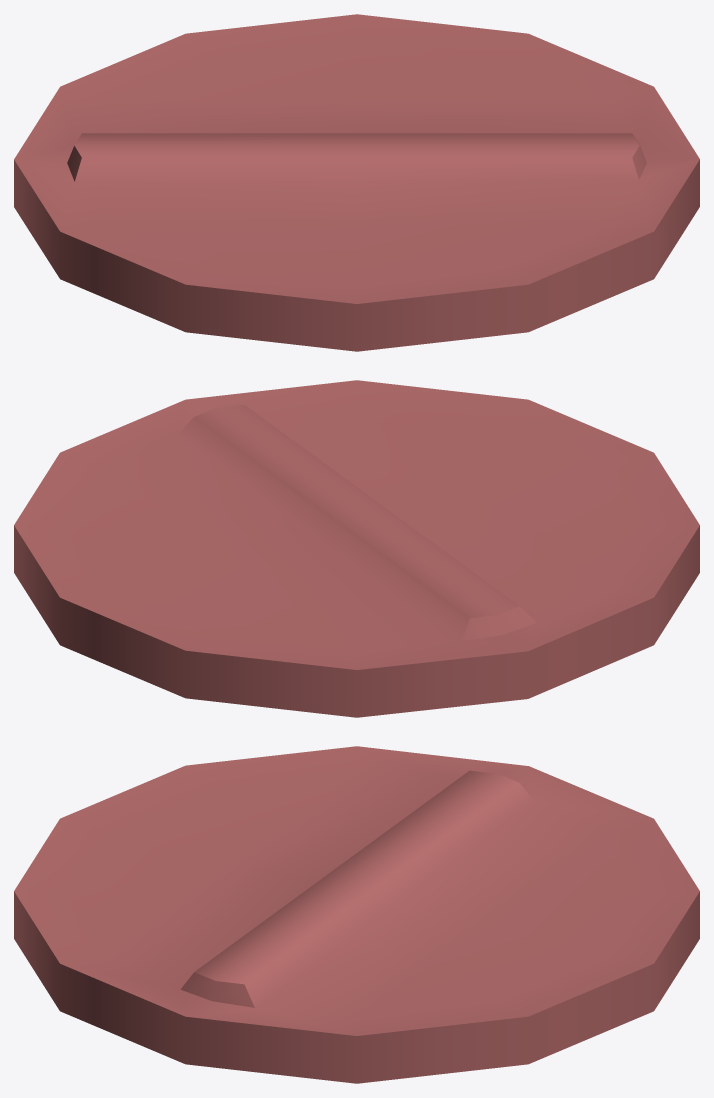
File: Lid_Barrel.fbx
3 views of the same model, one above another, from view 1: azimuth 30°, elevation 25°; view 2: azimuth 150°, elevation 25°; view 3: azimuth 270°, elevation 25° (orthographic).
Parts seen in each view (by area): view 1: Lid; view 2: Lid; view 3: Lid.
Boxes of the visible parts, x1,y1,x2,y2 form: Lid: (14,14,699,351); Lid: (14,380,699,717); Lid: (14,746,699,1083).
Bounding box in the file's own units: 54.15 × 5.68 × 54.15.
